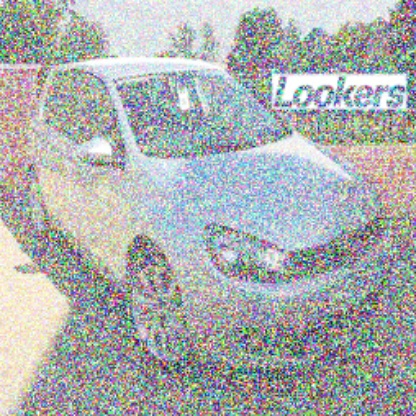Vehicle: (25, 57, 396, 375)
